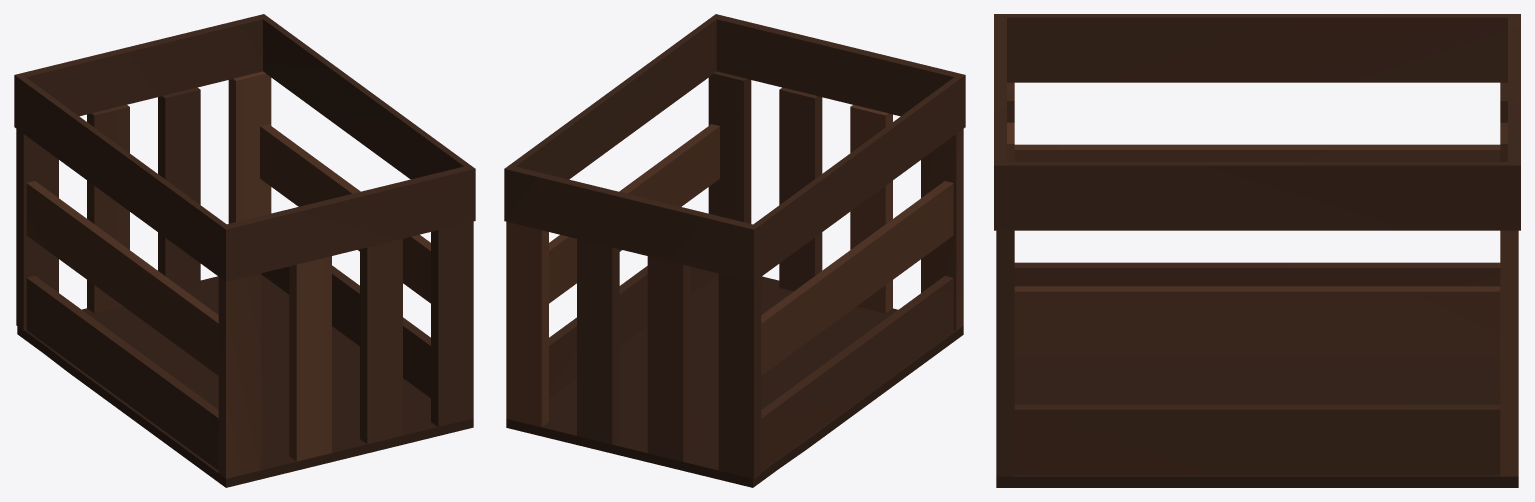
The model's file is Small Dark Crate No Lid.fbx.
3 renders of one model, left to right at view 1: azimuth 30°, elevation 25°; view 2: azimuth 150°, elevation 25°; view 3: azimuth 270°, elevation 25°, orthographic. The views are drawn at different scales.
Visible parts, largest first — view 1: Small Dark Crate No Lid; view 2: Small Dark Crate No Lid; view 3: Small Dark Crate No Lid.
Boxes of the visible parts, x1=… form: Small Dark Crate No Lid: x1=14, y1=14, x2=475, y2=487; Small Dark Crate No Lid: x1=504, y1=14, x2=965, y2=487; Small Dark Crate No Lid: x1=994, y1=14, x2=1520, y2=487.
Size of the model in its own units: 138 by 204 by 139.
1 material, 1 textured.
